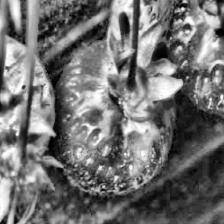Gray Mold: (0, 130, 63, 224)
